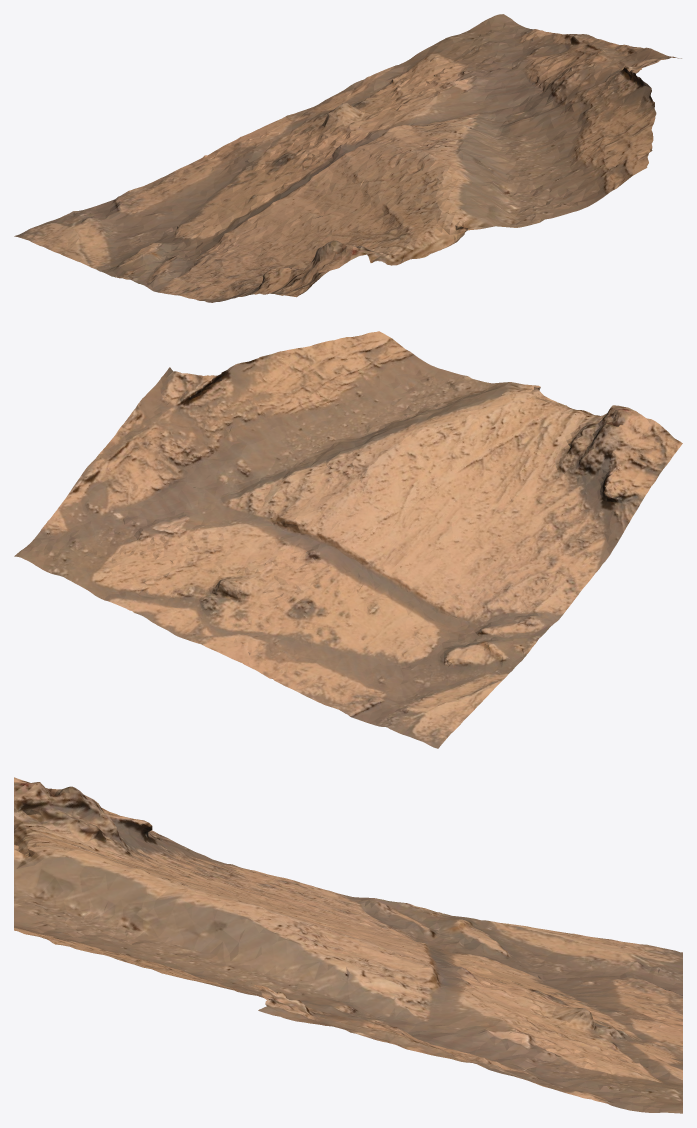
The picture shows the model from 3 angles, top to bottom: view 1: azimuth 30°, elevation 25°; view 2: azimuth 150°, elevation 25°; view 3: azimuth 270°, elevation 25°; orthographic projection. The views are drawn at different scales.
Bounding box in the file's own units: 2.09 × 0.7734 × 2.09.
Materials: 2 (2 with a texture image).
